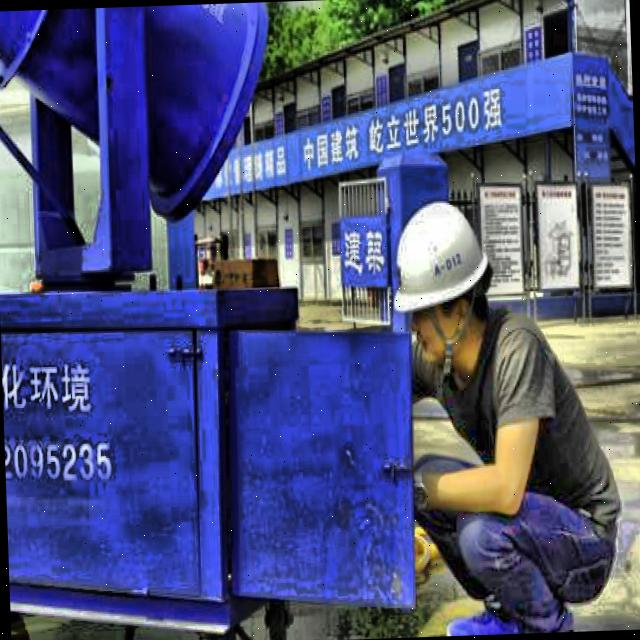helmet: (376, 178, 498, 388)
